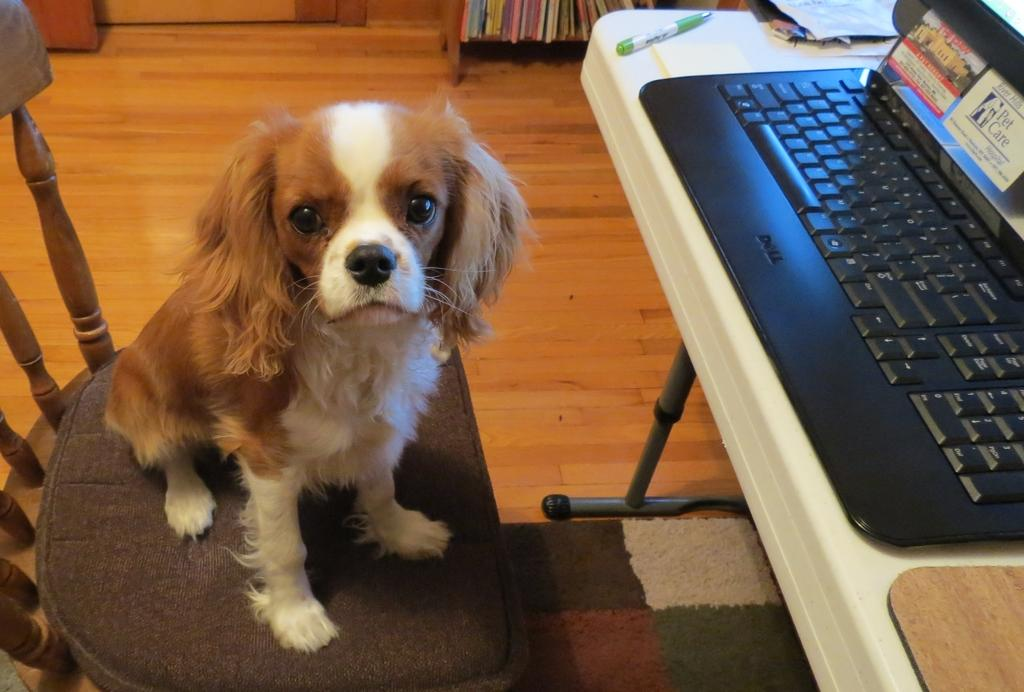Computer-keyboard: (635, 64, 1023, 550)
